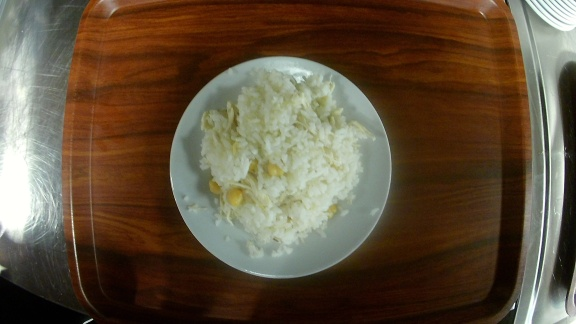nohutlupilav: (170, 56, 391, 278)
